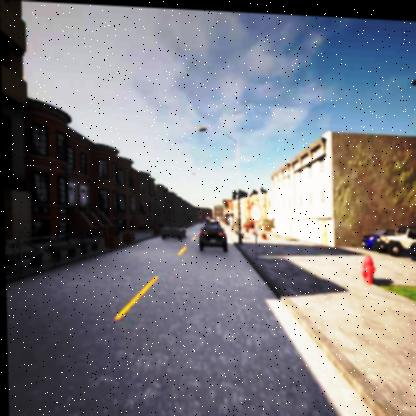vehicle: (362, 220, 416, 253), (197, 219, 226, 249), (159, 220, 186, 240), (407, 236, 416, 258)
